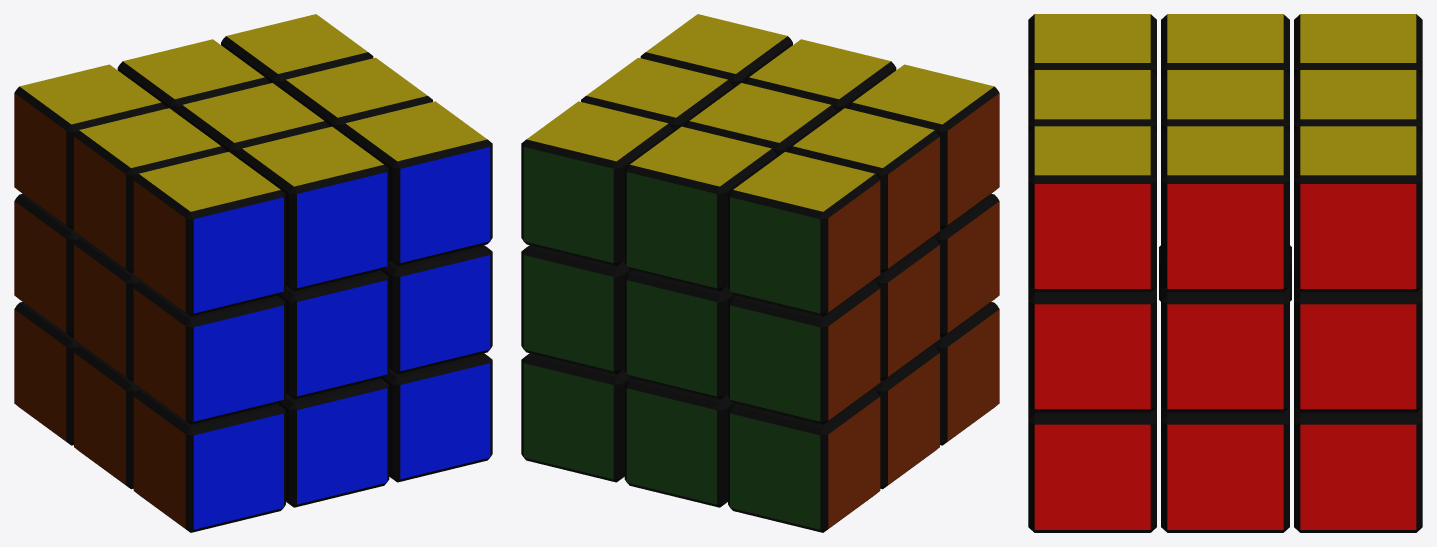
3 renders of one model, left to right at view 1: azimuth 30°, elevation 25°; view 2: azimuth 150°, elevation 25°; view 3: azimuth 270°, elevation 25°, orthographic. The views are drawn at different scales.
Parts seen in each view (by area): view 1: geo_grp corner_BYO_geo, geo_grp corner_BOW_geo, geo_grp edge_BO_geo, geo_grp corner_BYR_geo, geo_grp edge_BY_geo, geo_grp corner_GOY_geo, geo_grp edge_YO_geo, geo_grp edge_BR_geo, geo_grp axis_B_geo, geo_grp edge_BW_geo, geo_grp corner_BWR_geo, geo_grp edge_OW_geo (+7 smaller); view 2: geo_grp corner_GOY_geo, geo_grp corner_GOW_geo, geo_grp edge_GO_geo, geo_grp corner_GYR_geo, geo_grp edge_GY_geo, geo_grp corner_BYO_geo, geo_grp edge_YO_geo, geo_grp edge_RG_geo, geo_grp axis_G_geo, geo_grp edge_GW_geo, geo_grp corner_GWR_geo, geo_grp edge_OW_geo (+7 smaller); view 3: geo_grp corner_GYR_geo, geo_grp corner_BYR_geo, geo_grp edge_RY_geo, geo_grp corner_BWR_geo, geo_grp corner_GWR_geo, geo_grp edge_RW_geo, geo_grp axis_R_geo, geo_grp edge_RG_geo, geo_grp edge_BR_geo, geo_grp axis_Y_geo, geo_grp edge_GY_geo, geo_grp edge_BY_geo (+3 smaller).
Part boxes in pixels (left/top/right/bottom): geo_grp corner_BYO_geo: left=133, top=152, right=285, bottom=316; geo_grp corner_BOW_geo: left=133, top=389, right=285, bottom=532; geo_grp edge_BO_geo: left=133, top=281, right=285, bottom=424; geo_grp corner_BYR_geo: left=340, top=101, right=492, bottom=266; geo_grp edge_BY_geo: left=237, top=126, right=389, bottom=291; geo_grp corner_GOY_geo: left=14, top=64, right=166, bottom=229; geo_grp edge_YO_geo: left=74, top=108, right=226, bottom=272; geo_grp edge_BR_geo: left=381, top=245, right=492, bottom=374; geo_grp axis_B_geo: left=278, top=270, right=389, bottom=399; geo_grp edge_BW_geo: left=278, top=378, right=389, bottom=507; geo_grp corner_BWR_geo: left=381, top=353, right=492, bottom=482; geo_grp edge_OW_geo: left=74, top=345, right=141, bottom=489; geo_grp corner_GOY_geo: left=728, top=152, right=880, bottom=316; geo_grp corner_GOW_geo: left=728, top=389, right=880, bottom=532; geo_grp edge_GO_geo: left=728, top=281, right=880, bottom=424; geo_grp corner_GYR_geo: left=521, top=101, right=673, bottom=266; geo_grp edge_GY_geo: left=624, top=126, right=776, bottom=291; geo_grp corner_BYO_geo: left=847, top=64, right=999, bottom=229; geo_grp edge_YO_geo: left=787, top=108, right=939, bottom=272; geo_grp edge_RG_geo: left=521, top=245, right=632, bottom=374; geo_grp axis_G_geo: left=624, top=270, right=735, bottom=399; geo_grp edge_GW_geo: left=624, top=378, right=735, bottom=507; geo_grp corner_GWR_geo: left=521, top=353, right=632, bottom=482; geo_grp edge_OW_geo: left=872, top=345, right=939, bottom=489; geo_grp corner_GYR_geo: left=1294, top=126, right=1422, bottom=291; geo_grp corner_BYR_geo: left=1028, top=126, right=1156, bottom=291; geo_grp edge_RY_geo: left=1161, top=126, right=1289, bottom=291; geo_grp corner_BWR_geo: left=1028, top=407, right=1156, bottom=532; geo_grp corner_GWR_geo: left=1294, top=407, right=1422, bottom=532; geo_grp edge_RW_geo: left=1161, top=407, right=1289, bottom=532; geo_grp axis_R_geo: left=1161, top=286, right=1289, bottom=412; geo_grp edge_RG_geo: left=1294, top=286, right=1422, bottom=412; geo_grp edge_BR_geo: left=1028, top=286, right=1156, bottom=412; geo_grp axis_Y_geo: left=1161, top=70, right=1289, bottom=131; geo_grp edge_GY_geo: left=1294, top=70, right=1422, bottom=131; geo_grp edge_BY_geo: left=1028, top=70, right=1156, bottom=131.
Bounding box in the file's own units: 2.97 × 2.97 × 2.97.
